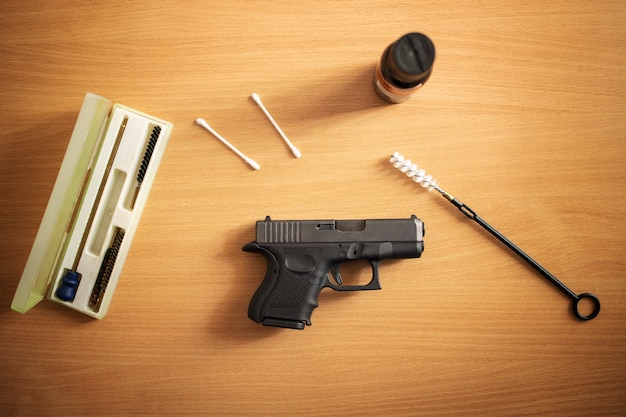gun: (242, 209, 426, 332)
